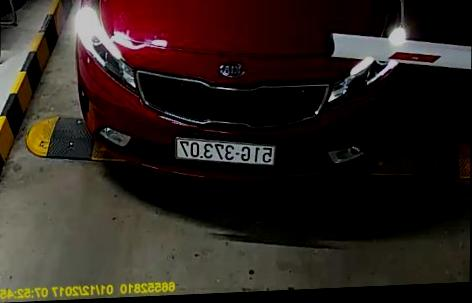License_Plate: (173, 136, 276, 166)
